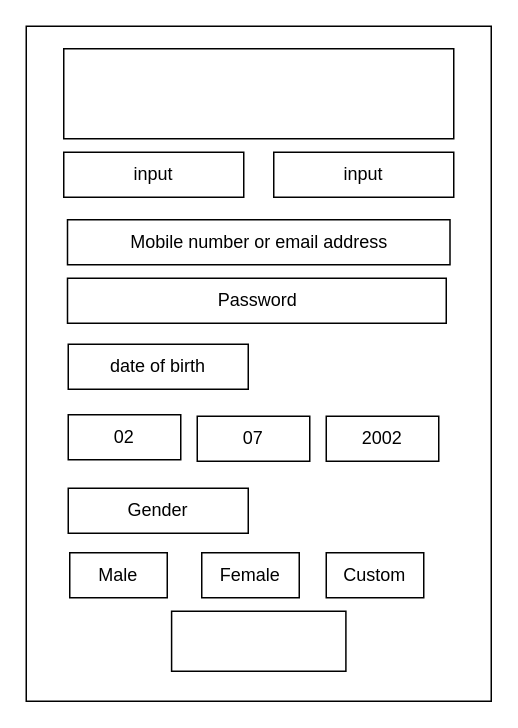
Image size: 518x728. Some labels were removed from this diagram. Here are the shapes that lost their labels. From the top down, the box of each, then its label:
(62, 47, 454, 139): text X its quik & easy
(170, 610, 346, 671): Sign Up
